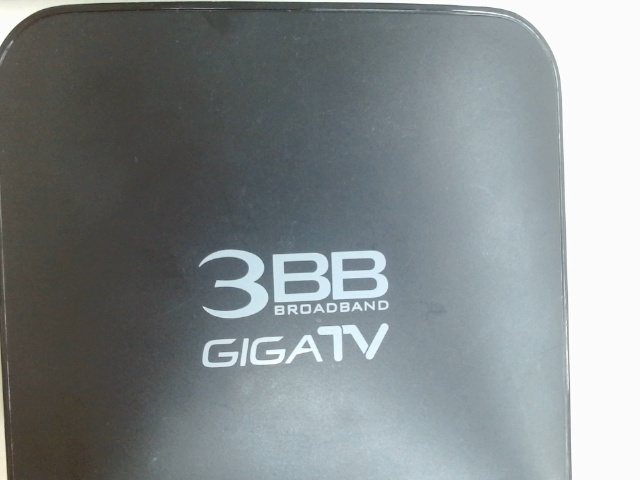AG_3BB: (187, 241, 397, 375)
